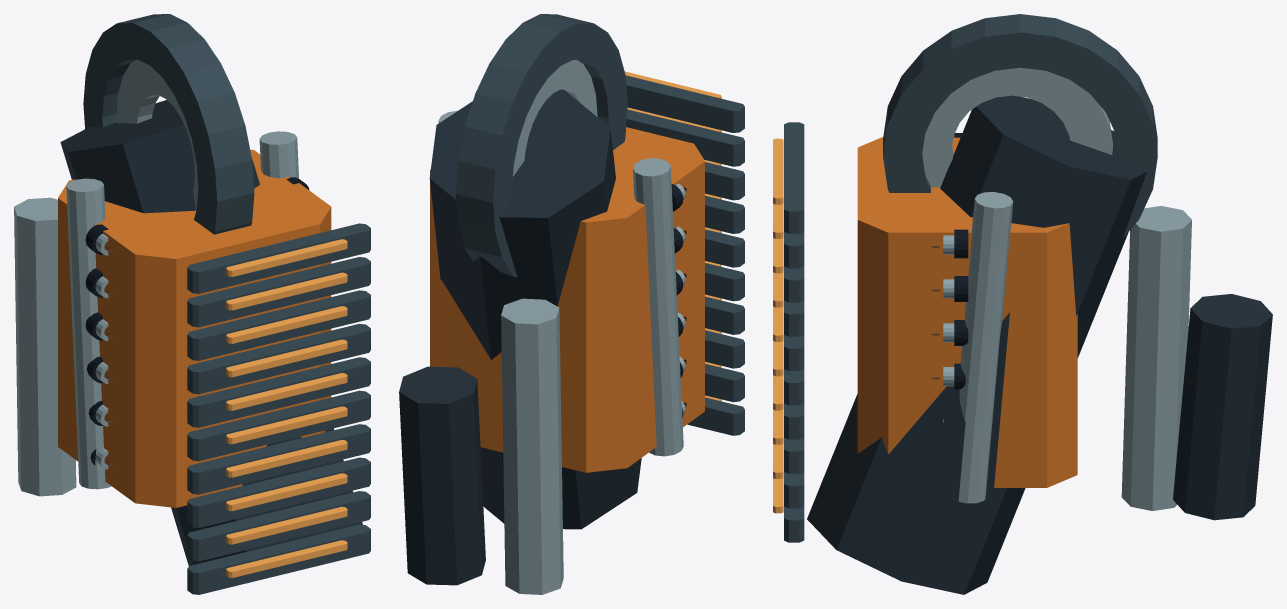
The model's file is enemy_runner_4k_thigh_r.obj.
3 views of the same model, side by side, from view 1: azimuth 30°, elevation 25°; view 2: azimuth 150°, elevation 25°; view 3: azimuth 270°, elevation 25° (orthographic). The views are drawn at different scales.
Bounding box in the file's own units: 0.3262 × 0.6708 × 0.5678.
